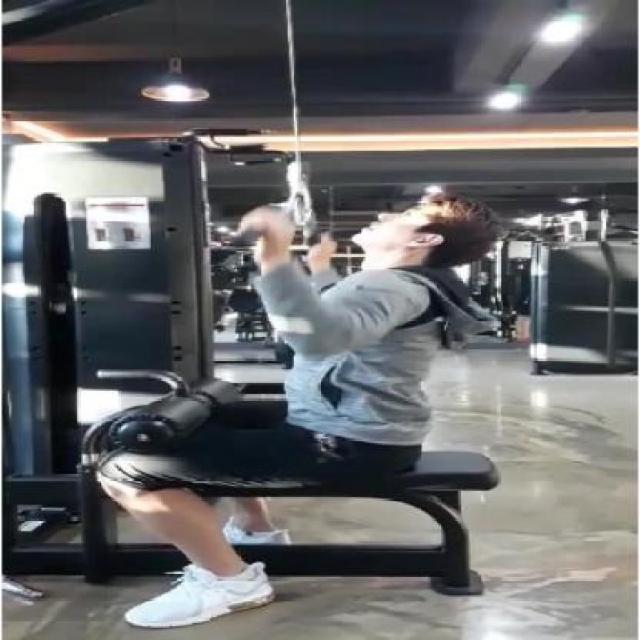Lat Pull Down: (0, 0, 548, 631)
